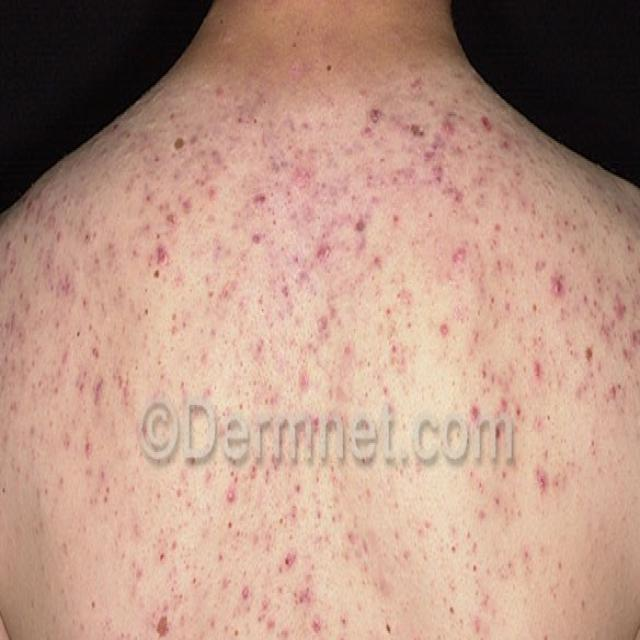Acne: (0, 309, 640, 640), (56, 190, 640, 401), (165, 47, 482, 292)
